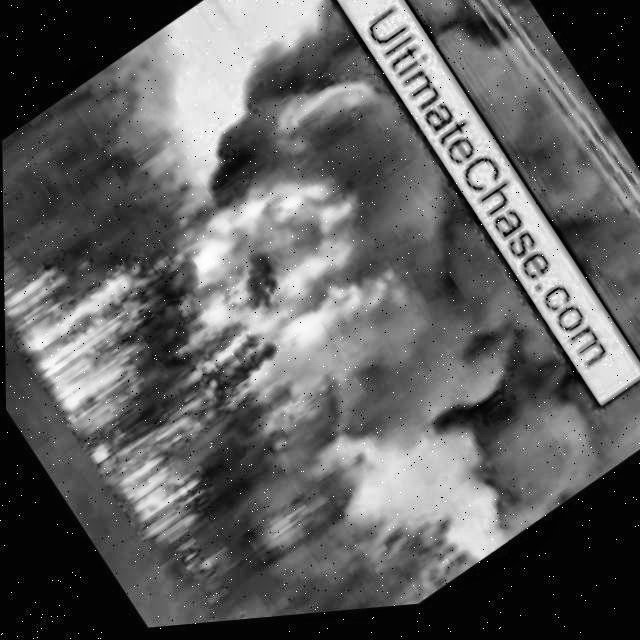Fire: (143, 57, 494, 429), (3, 216, 277, 583)
Smoke: (89, 0, 629, 628), (368, 0, 640, 458)
